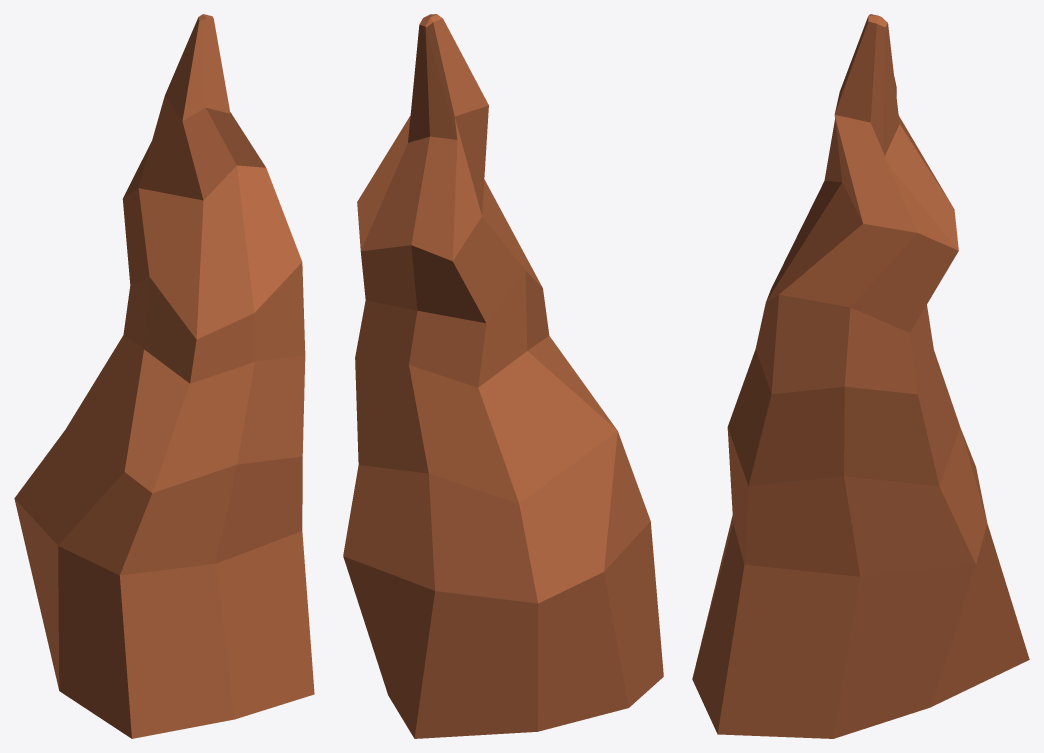
Rendered from rockbig004.fbx.
3 views of the same model, side by side, from view 1: azimuth 30°, elevation 25°; view 2: azimuth 150°, elevation 25°; view 3: azimuth 270°, elevation 25° (orthographic). The views are drawn at different scales.
Visible parts, largest first — view 1: Cube.003; view 2: Cube.003; view 3: Cube.003.
Part boxes in pixels (box(x1,y1,x2,y2)): Cube.003: box(14, 14, 314, 738); Cube.003: box(343, 14, 663, 738); Cube.003: box(692, 14, 1029, 738).
Size of the model in its own units: 174 by 465 by 201.
